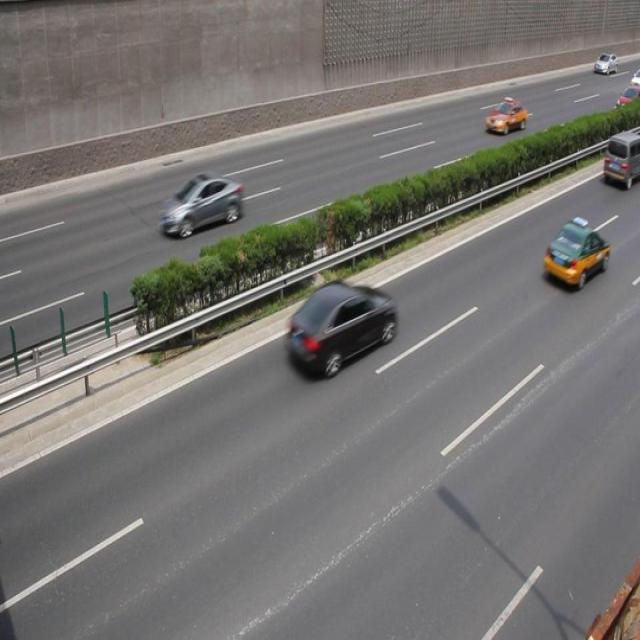car: (284, 283, 395, 380), (158, 175, 243, 239), (541, 218, 608, 289), (484, 96, 526, 137)
truck: (601, 131, 640, 187)
